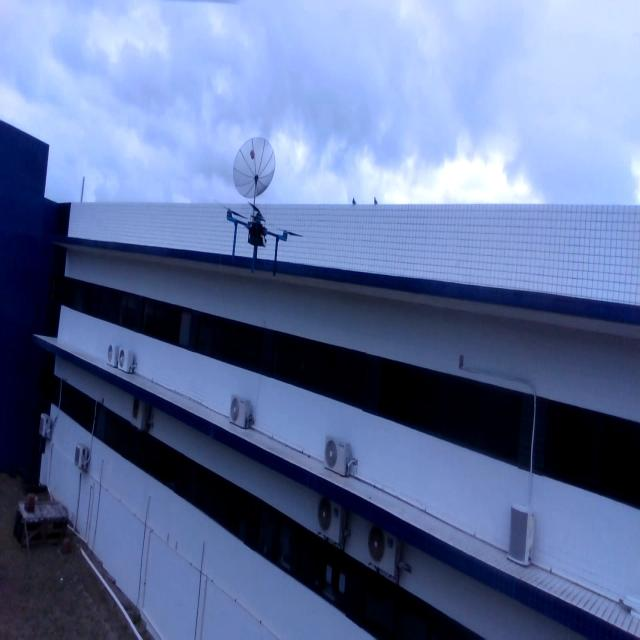-uav-: (218, 187, 308, 286)
